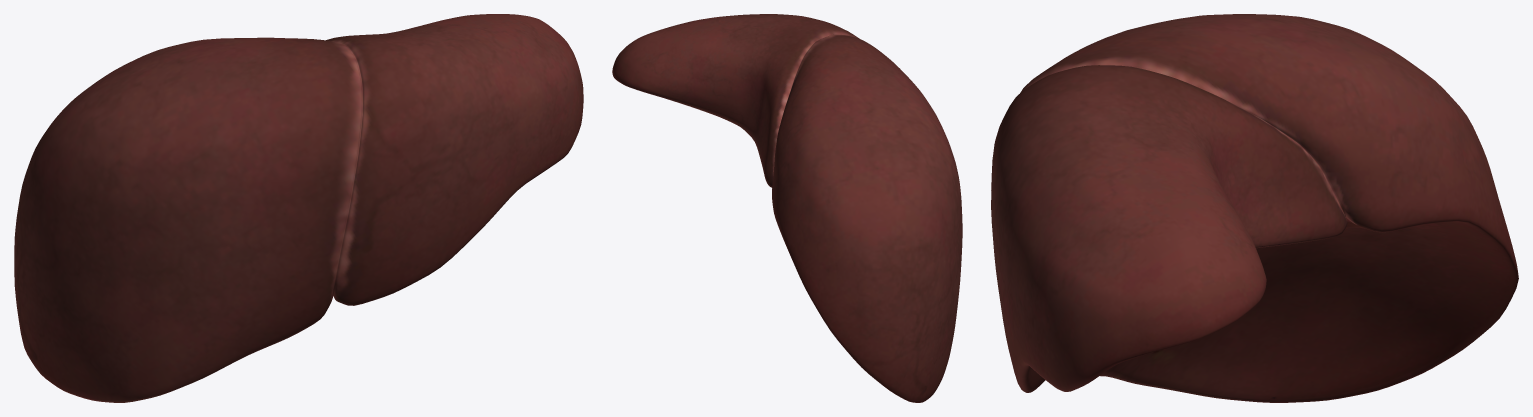
3 views of the same model, side by side, from view 1: azimuth 30°, elevation 25°; view 2: azimuth 150°, elevation 25°; view 3: azimuth 270°, elevation 25° (orthographic). The views are drawn at different scales.
Parts seen in each view (by area): view 1: Gan; view 2: Gan; view 3: Gan.
Boxes of the visible parts, x1,y1,x2,y2 form: Gan: (14, 14, 583, 402); Gan: (612, 14, 962, 402); Gan: (991, 14, 1518, 402).
Size of the model in its own units: 0.2273 by 0.1609 by 0.1582.
1 material, 1 textured.
